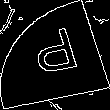P_S: (26, 26, 84, 84)
